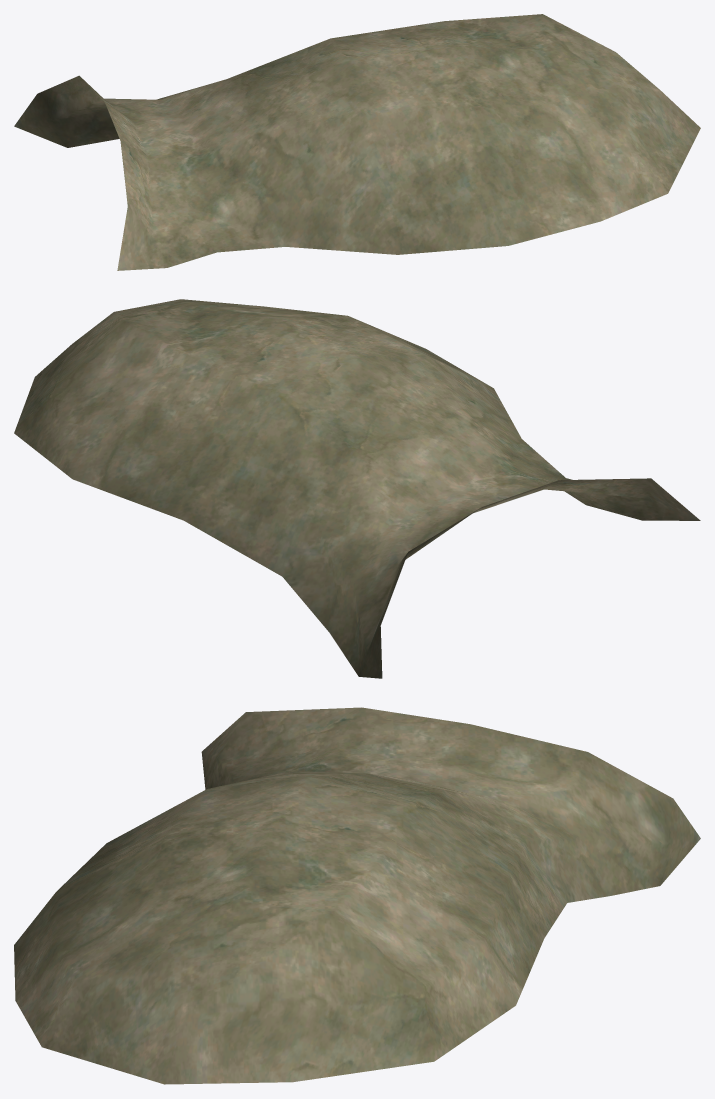
The model's file is EKH_THRONE_PS_TH_PUZZLE_ROOF.fbx.
3 views of the same model, one above another, from view 1: azimuth 30°, elevation 25°; view 2: azimuth 150°, elevation 25°; view 3: azimuth 270°, elevation 25° (orthographic). The views are drawn at different scales.
Parts seen in each view (by area): view 1: EKH_THRONE_PS_TH_PUZZLE_ROOF; view 2: EKH_THRONE_PS_TH_PUZZLE_ROOF; view 3: EKH_THRONE_PS_TH_PUZZLE_ROOF.
Boxes of the visible parts, box(x1,y1,x2,y2) form: EKH_THRONE_PS_TH_PUZZLE_ROOF: box(14, 14, 700, 270); EKH_THRONE_PS_TH_PUZZLE_ROOF: box(14, 299, 700, 678); EKH_THRONE_PS_TH_PUZZLE_ROOF: box(14, 707, 700, 1084).
Bounding box in the file's own units: 134390 × 35006 × 110319.
Materials: 1 (1 with a texture image).
